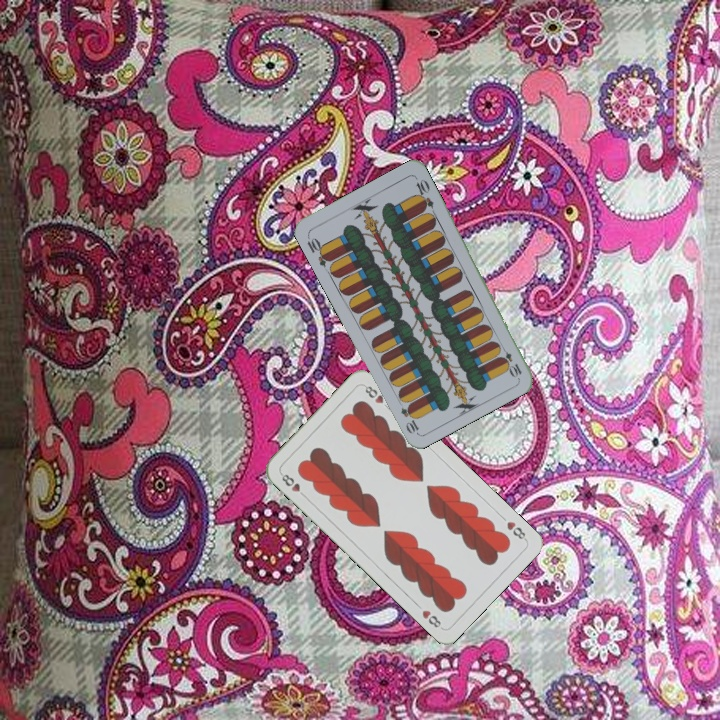E10: (303, 232, 334, 269), (496, 341, 524, 380)
H8: (277, 469, 309, 501), (502, 517, 529, 543)
